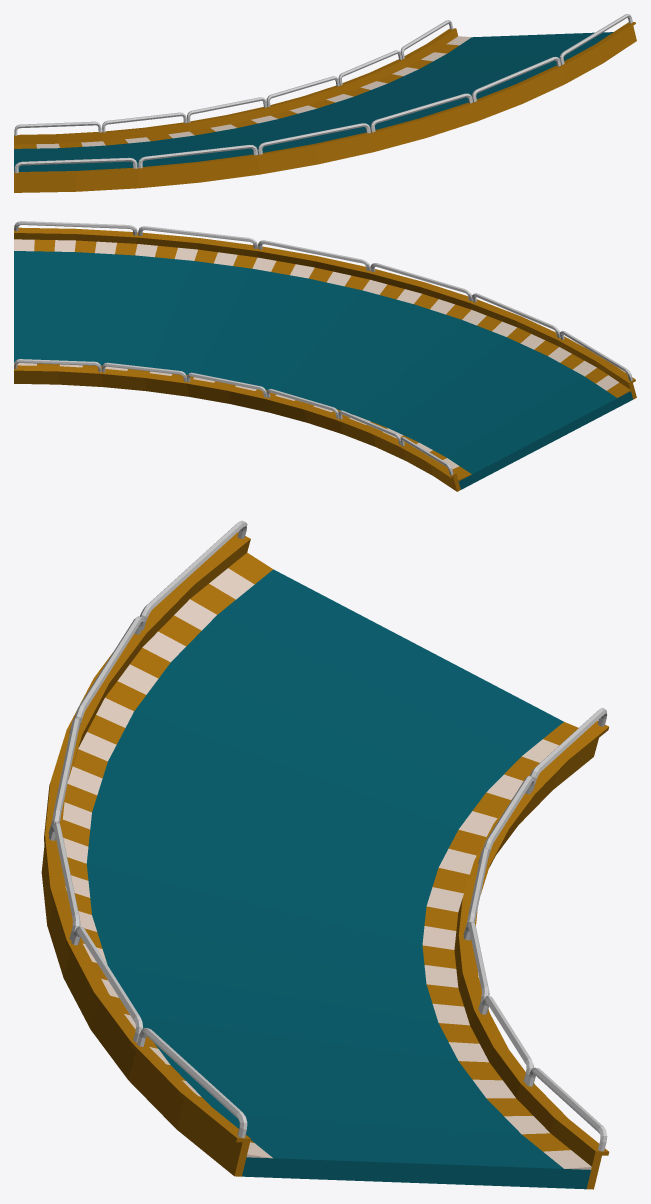
Rendered from bankedRight-60-15_l.FBX.
3 views of the same model, one above another, from view 1: azimuth 30°, elevation 25°; view 2: azimuth 150°, elevation 25°; view 3: azimuth 270°, elevation 25° (orthographic). The views are drawn at different scales.
Parts seen in each view (by area): view 1: bankedRight-60-15_l, wall_l, wall_r, curbs_r; view 2: bankedRight-60-15_l, wall_l, wall_r, curbs_l, curbs_r; view 3: bankedRight-60-15_l, wall_l, wall_r, curbs_l, curbs_r.
Part boxes in pixels (<box>): bankedRight-60-15_l: <box>14,32,613,171</box>; wall_l: <box>14,14,636,192</box>; wall_r: <box>14,20,457,144</box>; curbs_r: <box>14,36,471,148</box>; bankedRight-60-15_l: <box>14,251,632,489</box>; wall_l: <box>14,221,636,399</box>; wall_r: <box>14,359,460,491</box>; curbs_l: <box>14,239,630,397</box>; curbs_r: <box>14,362,471,480</box>; bankedRight-60-15_l: <box>86,569,590,1189</box>; wall_l: <box>41,520,250,1176</box>; wall_r: <box>454,708,609,1189</box>; curbs_l: <box>61,552,273,1158</box>; curbs_r: <box>422,722,591,1169</box>.
Size of what is drawn, in the model's own units: 670 by 80.3 by 264.
